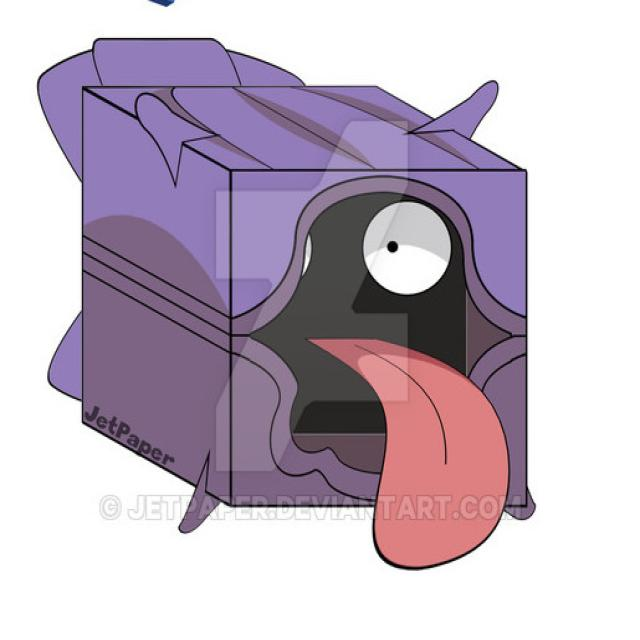Shellder: (59, 25, 555, 530)
